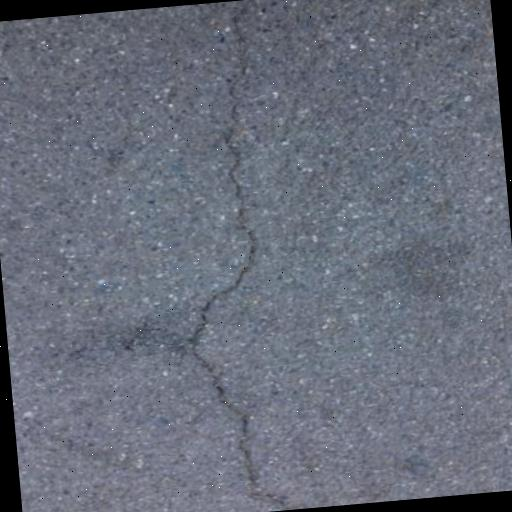spalling: (179, 13, 291, 512)
